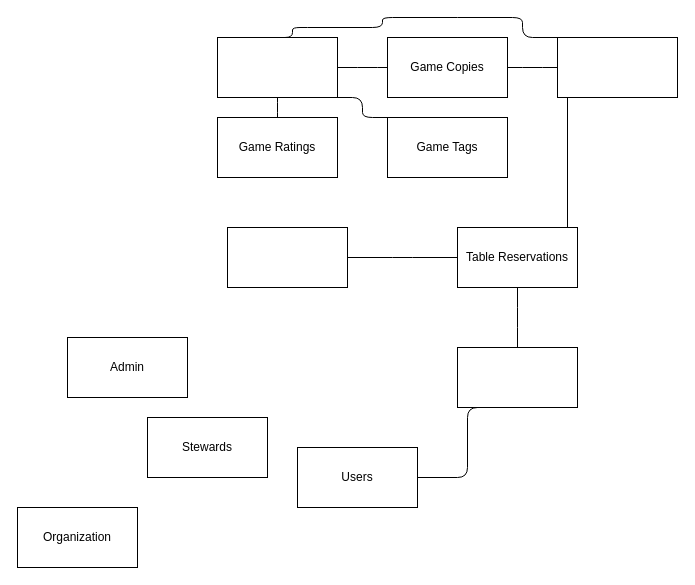
The diagram is 695 pixels wide and 585 high, and some of its shapes have lost their labels. Here are the shapes that lost their labels. From the top down, the centre of each, then its label:
At pixel 277 67: "Games".
At pixel 617 67: "Game Reservations".
At pixel 287 257: "Tables".
At pixel 517 377: "Payments".
